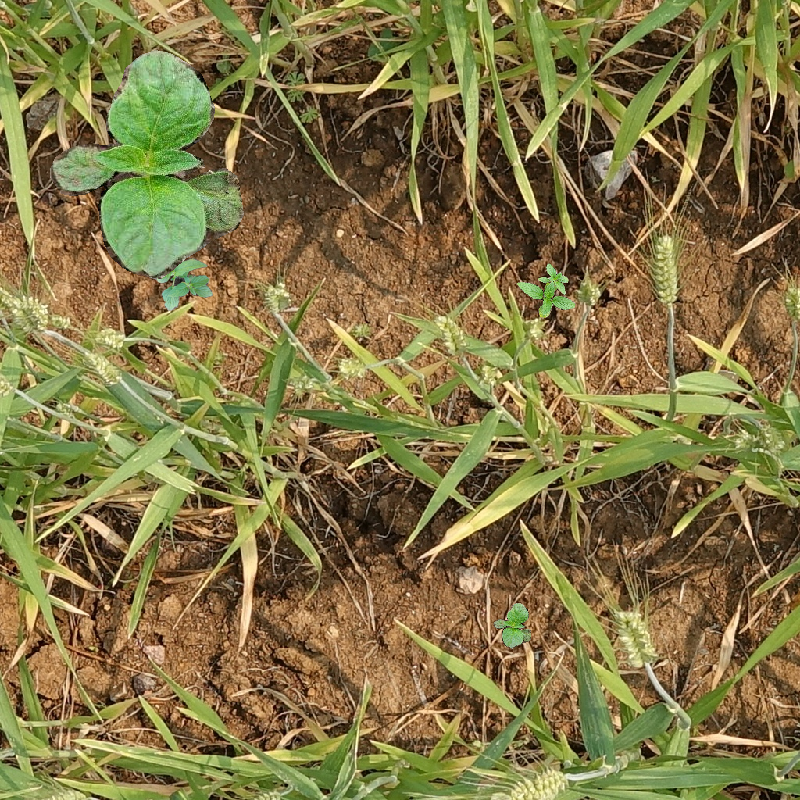spikelet: (481, 767, 568, 799), (648, 230, 681, 307), (616, 608, 656, 667), (0, 284, 49, 332), (733, 419, 782, 457), (81, 348, 122, 386), (435, 313, 468, 355), (261, 279, 295, 315), (285, 367, 322, 397), (91, 325, 130, 352), (782, 281, 799, 336), (475, 359, 505, 390), (335, 353, 368, 380), (32, 786, 97, 799), (519, 314, 547, 344), (576, 278, 603, 306)
weed: (50, 50, 244, 279), (507, 253, 588, 330), (138, 242, 213, 311), (489, 599, 537, 652)
